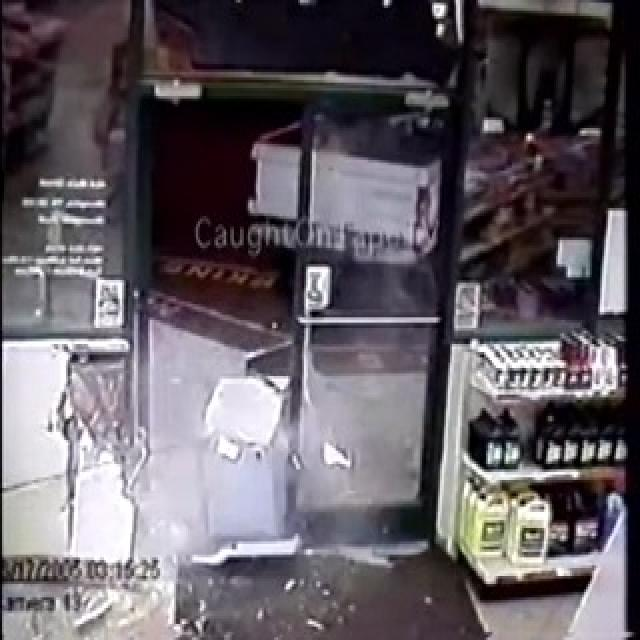burglary: (37, 319, 270, 593)
